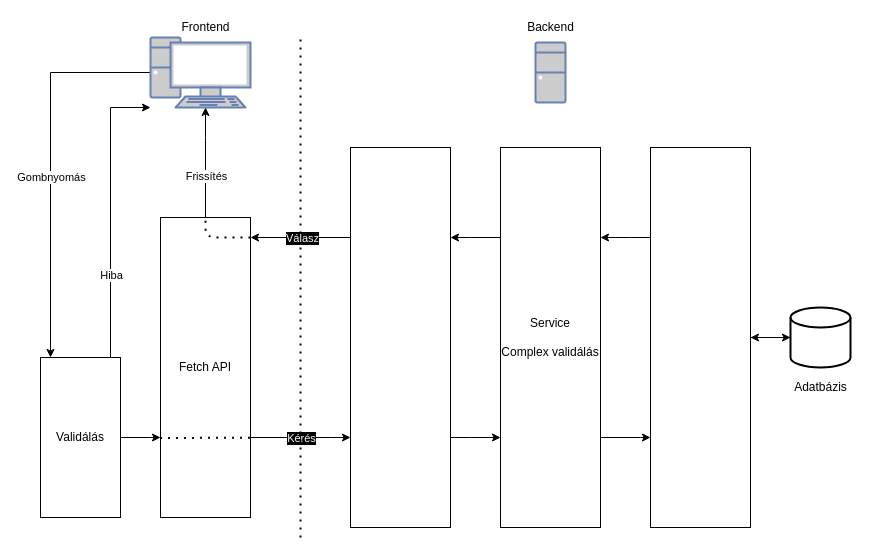
Some shapes in this 873 by 556 pixel diagram are drawn without their labels. Each missing label, with the box of its shape:
Controller Formai validálás: (350, 146, 450, 528)
Model Adatbázis kommunikáció: (650, 146, 750, 528)
